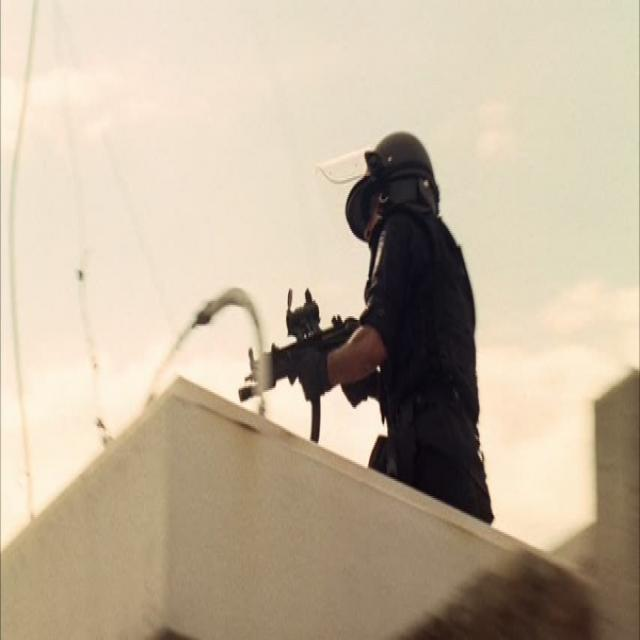rifle: (237, 285, 373, 448)
